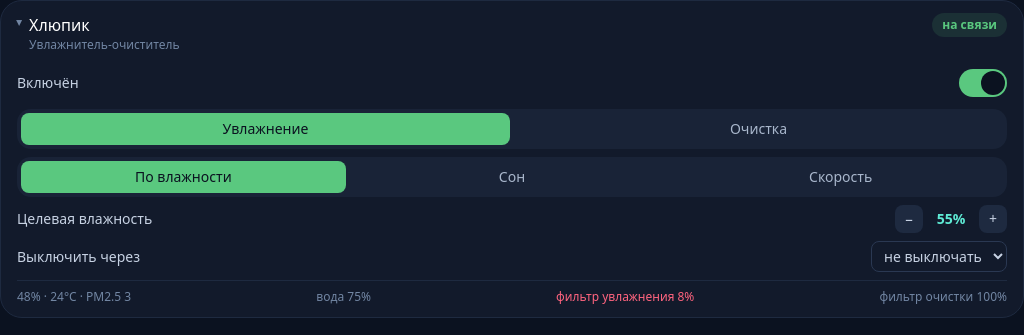
it: ApplianceCard › свёрнутая — показания как у датчика и режим, без органов управления
The image size is (1024, 335).
Step 1. Click the button "▸ Хлюпик Увлажнитель-очиститель" → click(98, 33), box [17,13,180,53]
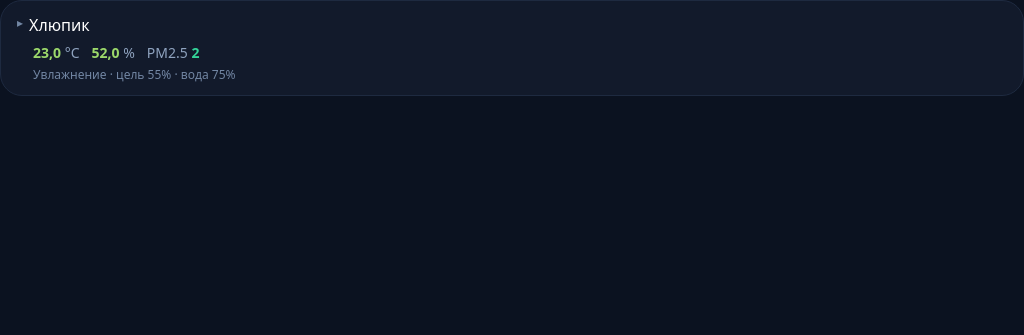
Check: the text "52,0" is shown, box [92,43,120,62]
Check: the text "Увлажнение · цель 55% · вода 75%" is shown, box [33,66,236,83]
Check: the switch is gone
